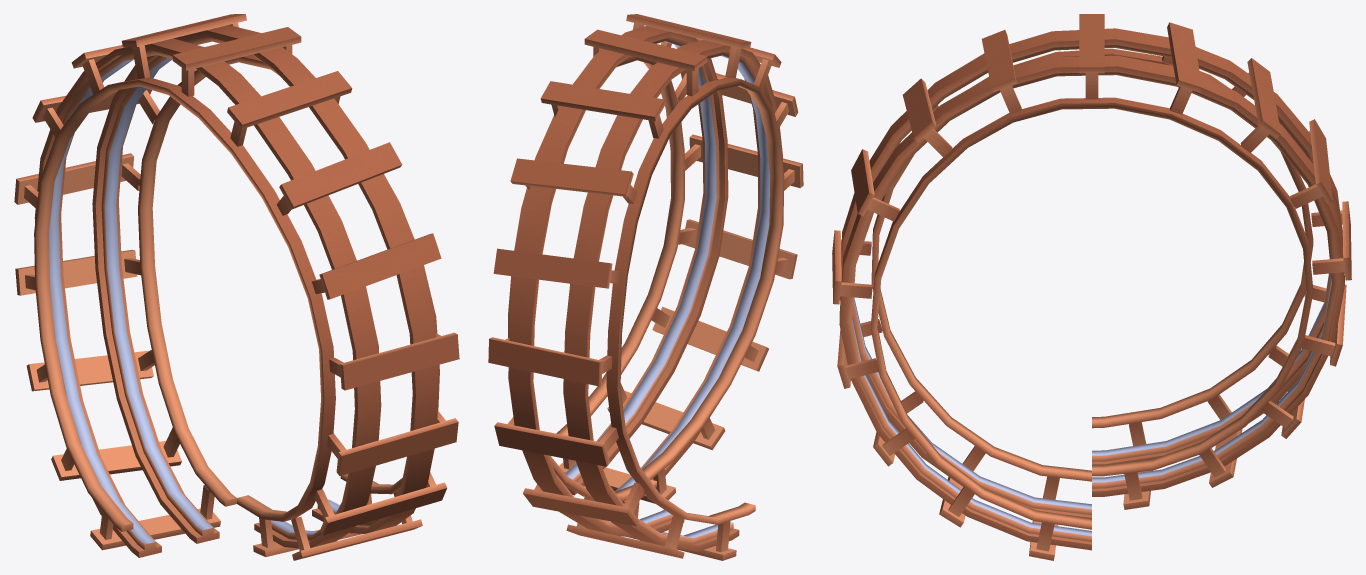
Rendered from coaster-wood-looping.glb.
3 views of the same model, side by side, from view 1: azimuth 30°, elevation 25°; view 2: azimuth 150°, elevation 25°; view 3: azimuth 270°, elevation 25° (orthographic). The views are drawn at different scales.
Visible parts, largest first — view 1: coaster-wood-looping; view 2: coaster-wood-looping; view 3: coaster-wood-looping.
Boxes of the visible parts, bbox=[...] form: coaster-wood-looping: bbox=[14, 14, 459, 560]; coaster-wood-looping: bbox=[488, 14, 803, 560]; coaster-wood-looping: bbox=[832, 14, 1351, 560].
Bounding box in the file's own units: 6 × 12.28 × 12.33.
1 material, 1 textured.
